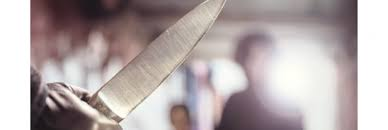knife: (82, 1, 237, 128)
